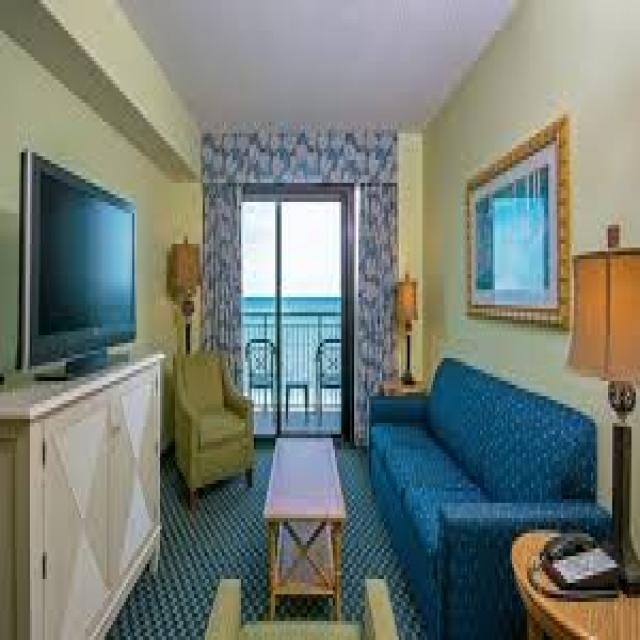Chair: (168, 346, 260, 508)
Sofa: (368, 352, 612, 624)
Table: (265, 431, 349, 606)
tv: (19, 148, 136, 358)
window: (208, 184, 351, 419)
